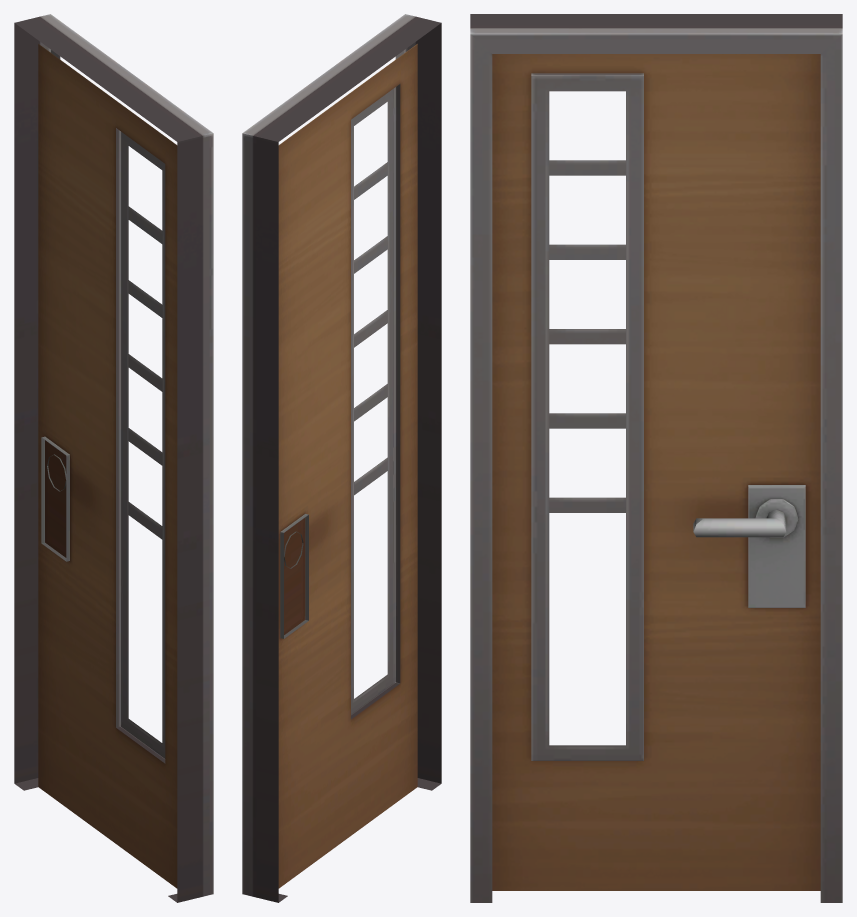
File: JustALittlePeek.fbx
3 views of the same model, side by side, from view 1: azimuth 30°, elevation 25°; view 2: azimuth 150°, elevation 25°; view 3: azimuth 270°, elevation 25° (orthographic). The views are drawn at different scales.
Visible parts, largest first — view 1: TinyLiving_JustALittlePeek; view 2: TinyLiving_JustALittlePeek; view 3: TinyLiving_JustALittlePeek.
Boxes of the visible parts, x1=… form: TinyLiving_JustALittlePeek: x1=14, y1=14, x2=213, y2=902; TinyLiving_JustALittlePeek: x1=242, y1=14, x2=441, y2=902; TinyLiving_JustALittlePeek: x1=470, y1=14, x2=842, y2=902.
Bounding box in the file's own units: 13.14 × 219 × 85.
